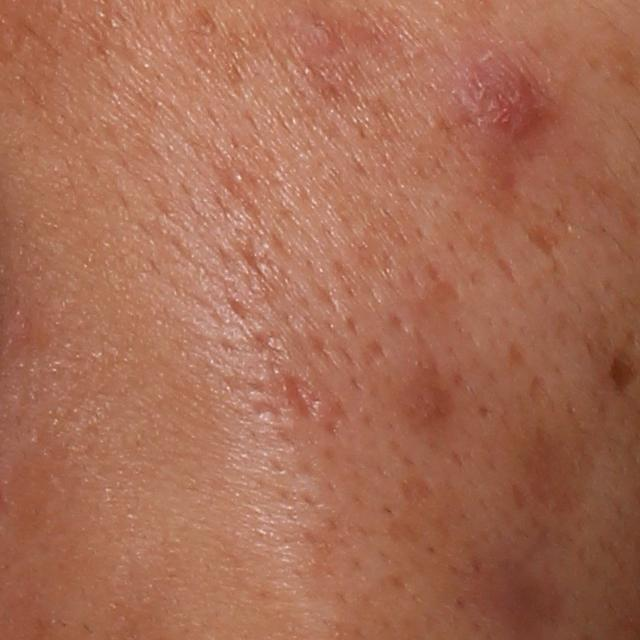atrophic_scar: (213, 158, 272, 219), (281, 369, 323, 422), (526, 223, 567, 277), (394, 473, 439, 505)
papule: (469, 57, 549, 142)
